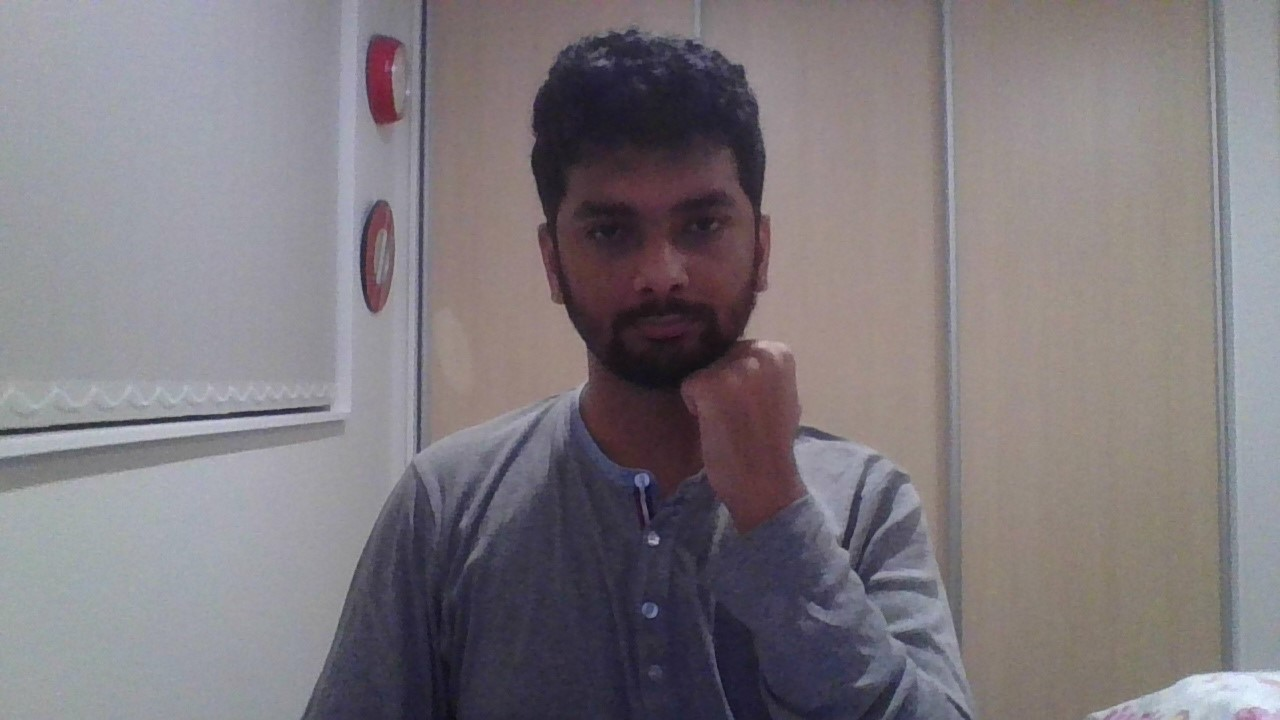day: (682, 339, 812, 534)
